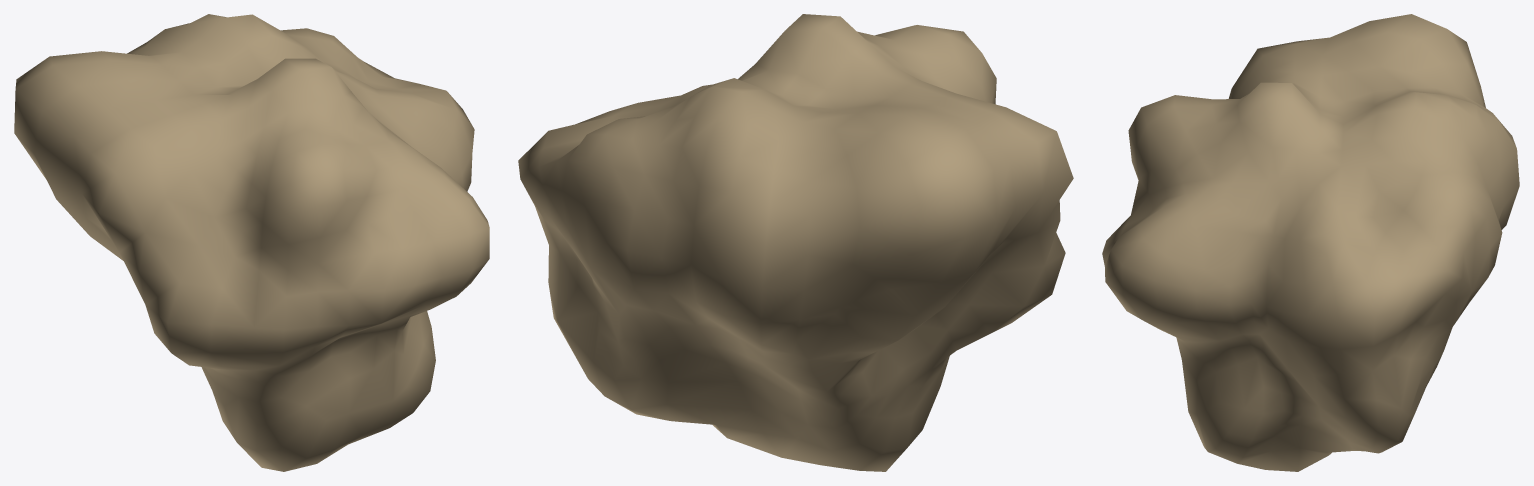
File: rock2.glb
3 renders of one model, left to right at view 1: azimuth 30°, elevation 25°; view 2: azimuth 150°, elevation 25°; view 3: azimuth 270°, elevation 25°, orthographic. The views are drawn at different scales.
Visible parts, largest first — view 1: Cube.001; view 2: Cube.001; view 3: Cube.001.
Part boxes in pixels (x1=…): Cube.001: x1=14, y1=14, x2=489, y2=471; Cube.001: x1=518, y1=14, x2=1073, y2=471; Cube.001: x1=1102, y1=14, x2=1519, y2=471.
Bounding box in the file's own units: 5.81 × 5.13 × 5.16.
